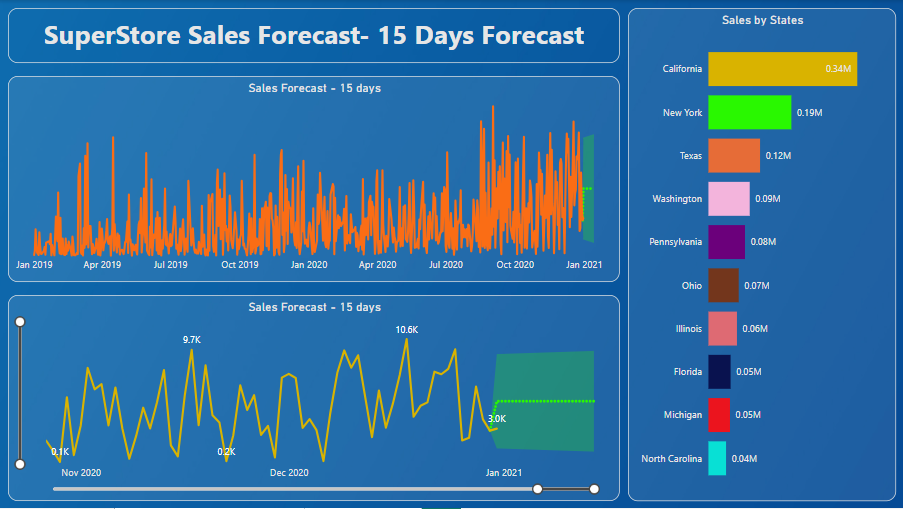

The page's visual inventory and layout, read from the dashboard file:
{"tool":"powerbi","page":{"name":"Sales Forecast","canvas":[1280,720],"ordinal":1},"visuals":[{"type":"lineChart","title":" Sales Forecast - 15 days","fields":{"Y":["Sum(Sheet1.Sales)"],"Category":["Sheet1.Order Date"]},"box":[11.3,107.7,867.4,292],"z":0},{"type":"clusteredBarChart","title":"Sales by States","fields":{"Y":["Sum(Sheet1.Sales)"],"Category":["Sheet1.State"]},"box":[890.1,11.3,379.8,698.7],"z":1000},{"type":"lineChart","title":"Sales Forecast - 15 days","fields":{"Y":["Sum(Sheet1.Sales)"],"Category":["Sheet1.Order Date"]},"box":[11.3,418.1,867.4,292],"z":2000},{"type":"textbox","box":[11.3,11.3,867.4,78],"z":3000}]}

Visuals, with their boxes in screenshot pixels (x1, y1, x2, y2), scaled from the page's 1280x720 canvas onto the 903x509 screenshot:
" Sales Forecast - 15 days" lineChart: BBox(8, 76, 620, 283)
"Sales by States" clusteredBarChart: BBox(628, 8, 896, 502)
"Sales Forecast - 15 days" lineChart: BBox(8, 296, 620, 502)
textbox: BBox(8, 8, 620, 63)
